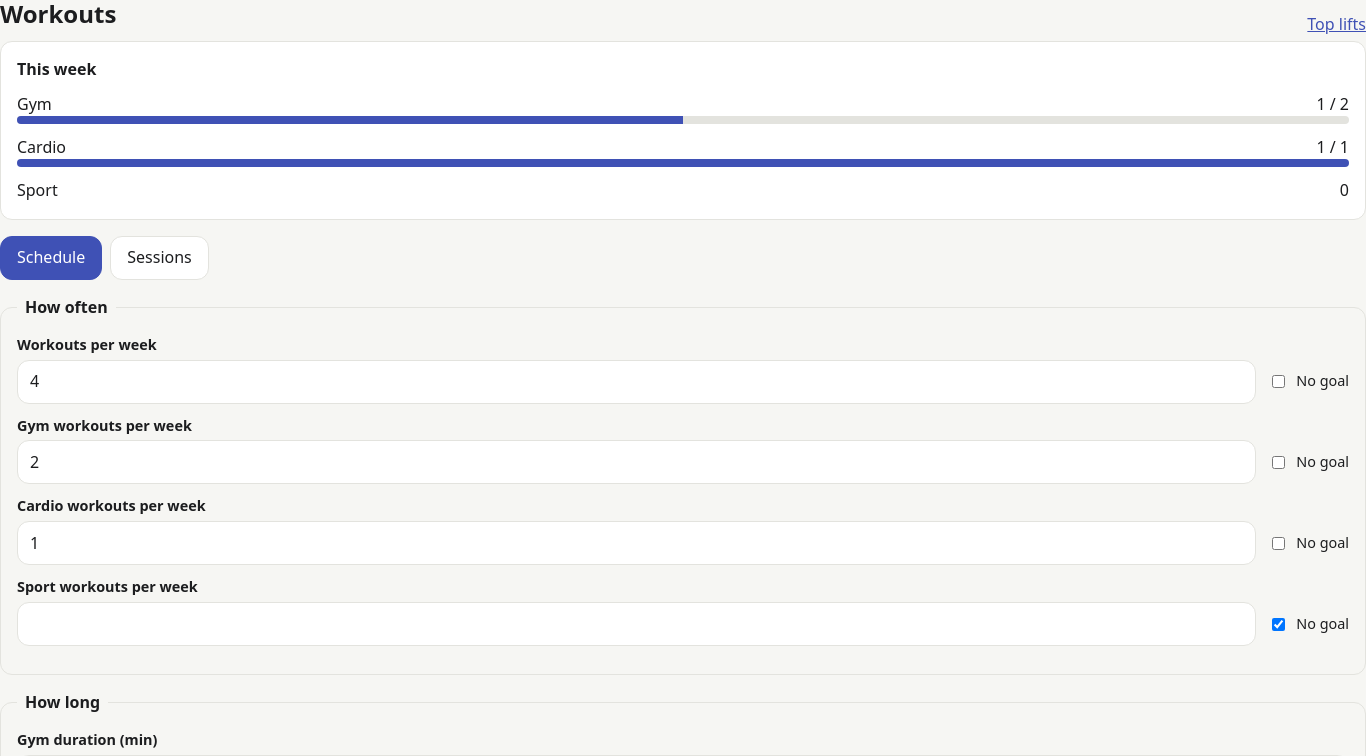
Test: filter chips filter sessions by type
Click the tab "Sessions": (160, 258) [110,236,209,280]
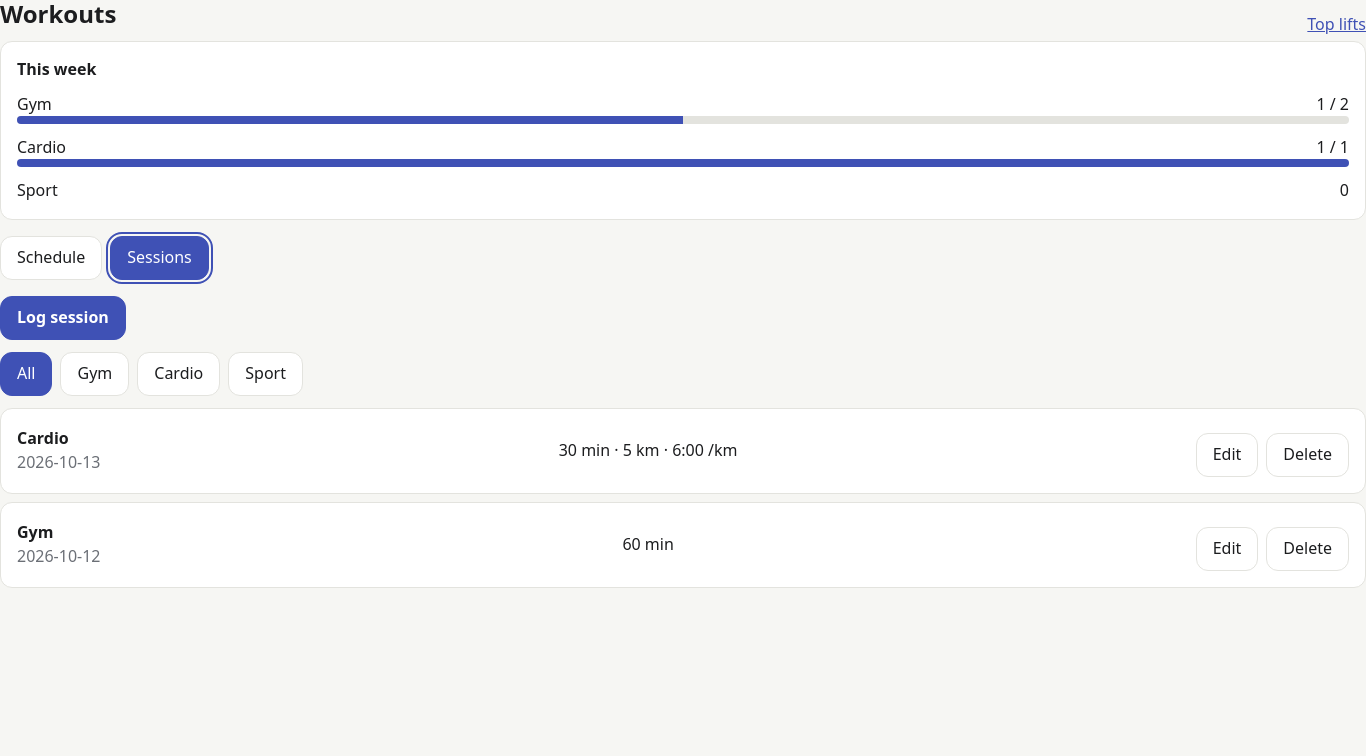
Expected: the text "30 min · 5 km · 6:00 /km" is shown, [559,439,738,462]
Expected: the number of list items is 2, [0,408,1365,494]; [0,502,1365,588]
Click the button "Cardio": (179, 374) [137,352,220,396]
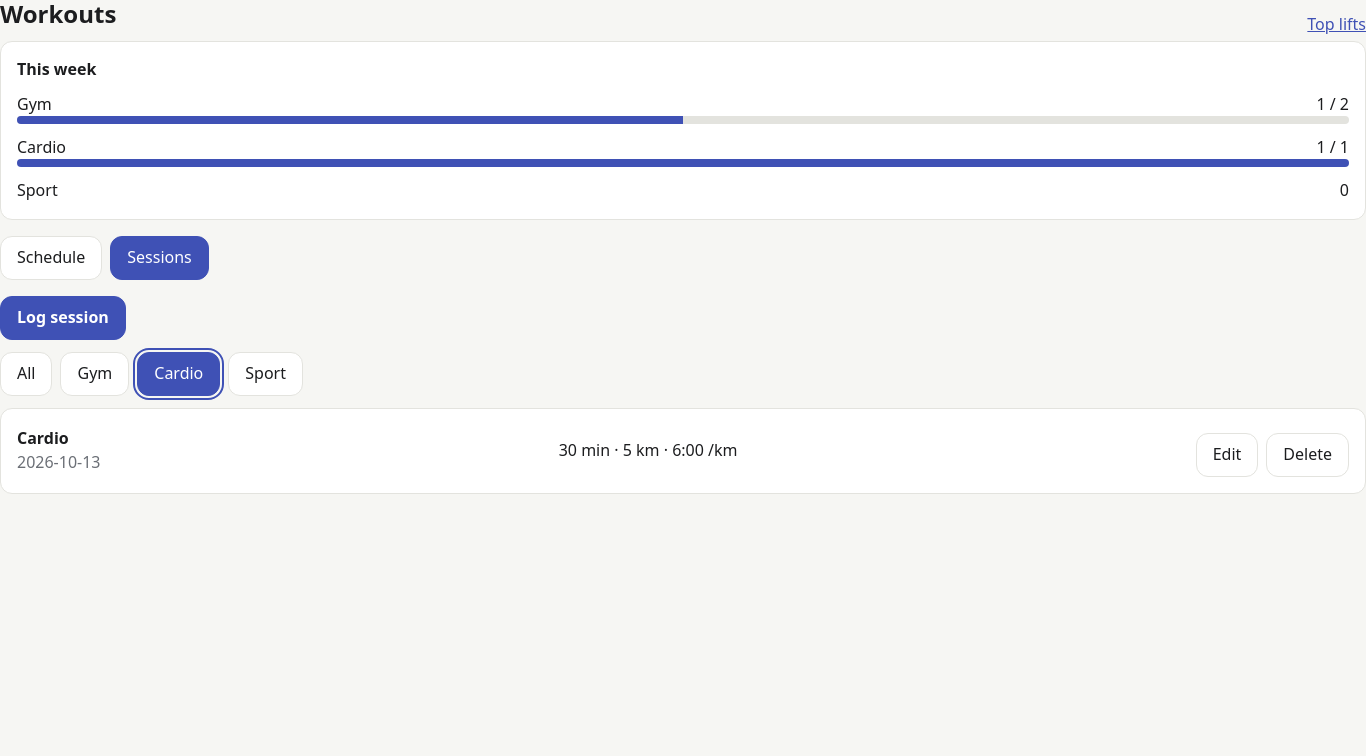
Expected: the number of list items is 1, [0,408,1365,494]
Expected: the text "60 min" is gone
Click the button "Gym": (95, 374) [60,352,129,396]
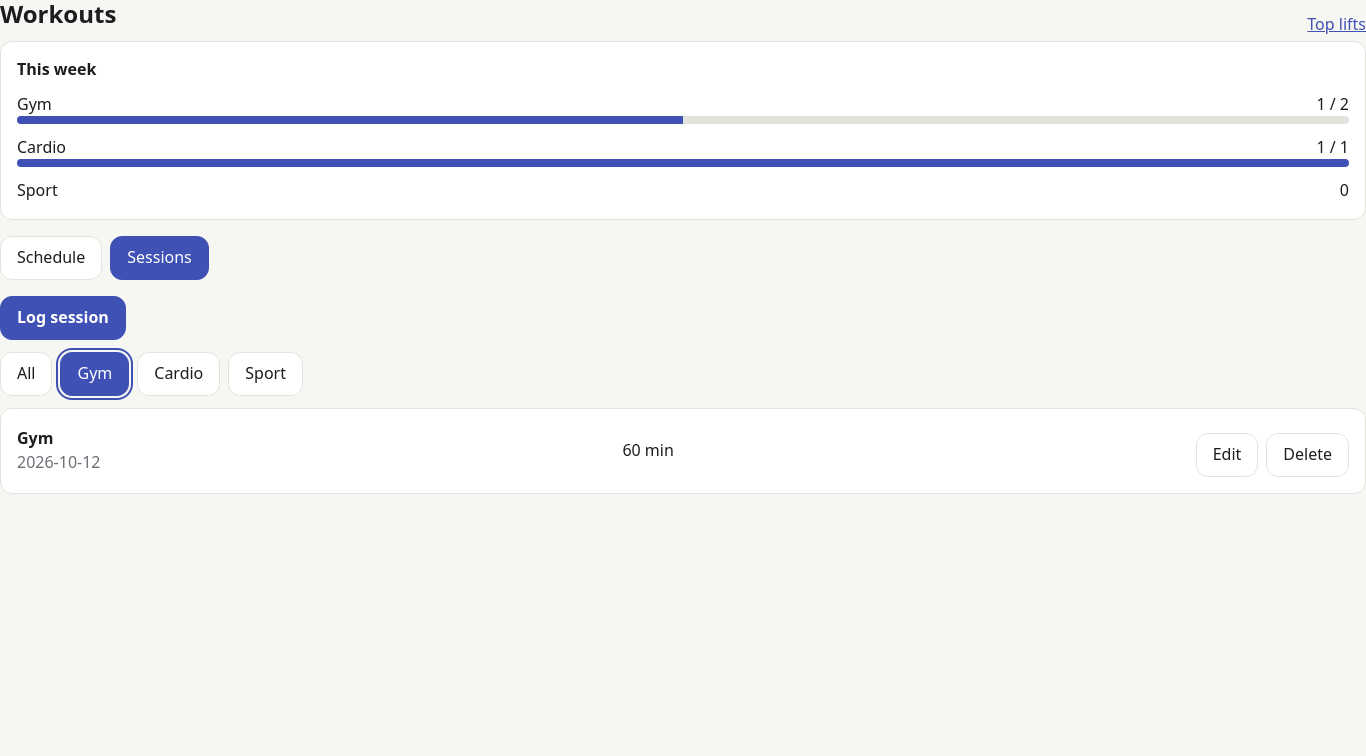
Expected: the text "60 min" is shown, [622,439,674,462]
Expected: the text "6:00 /km" is gone
